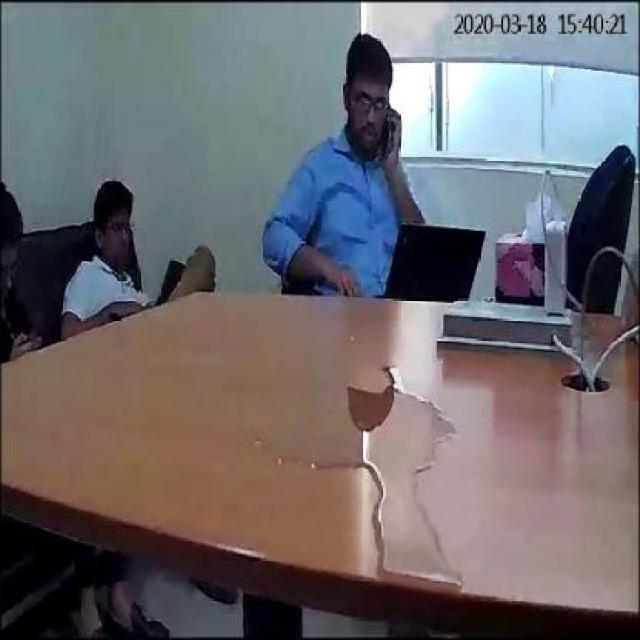spill: (258, 360, 464, 585)
